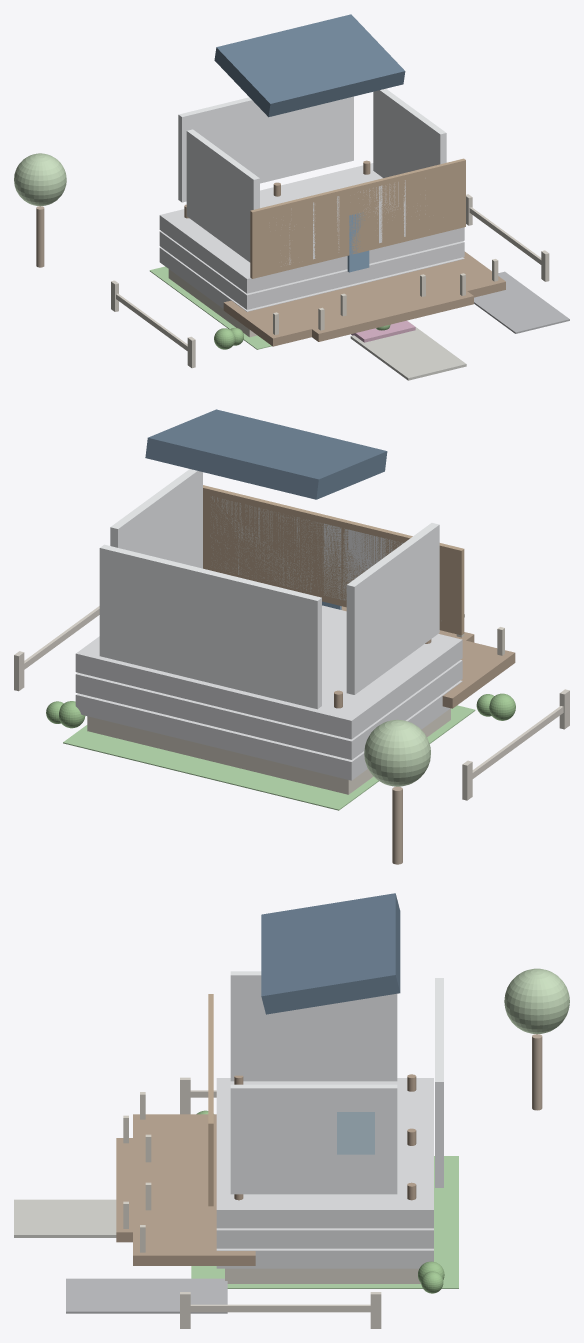
File: BUILDING_HOUSE_BEACH_BUNGALOW_001_LOD_GAMEPLAY.glb
The picture shows the model from 3 angles, top to bottom: view 1: azimuth 30°, elevation 25°; view 2: azimuth 150°, elevation 25°; view 3: azimuth 270°, elevation 25°; orthographic projection. The views are drawn at different scales.
Parts seen in each view (by area): view 1: MOD_ROOF_GABLE_STANDARD_001.001, MOD_WALL_WEATHERBOARD_WHITE_001.005, MOD_WINDOW_RESIDENTIAL_LARGE_001_COASTAL_PANORAMIC_WINDOW_GA, MOD_DECK_TIMBER_COASTAL_001_WRAP_DECK_GAMEPLAY_PLATFORM, MOD_FOUNDATION_RAISED_COASTAL_001_COASTAL_STILT_FOUNDATION_G, MOD_WINDOW_RESIDENTIAL_LARGE_001_COASTAL_PANORAMIC_WINDOW_G., MOD_WALL_WEATHERBOARD_WHITE_001.003, MOD_FOUNDATION_RAISED_COASTAL_001_MEDIUM_RAISED_COASTAL_GAME, MOD_WALL_WEATHERBOARD_WHITE_001.004, MOD_PATH_STANDARD_001_GAMEPLAY_SURFACE, MOD_DRIVEWAY_STANDARD_SINGLE_001_GAMEPLAY_SURFACE, MOD_FOUNDATION_RAISED_COASTAL_001_LOW_RAISED_COASTAL_GAMEPLA (×2) (+8 smaller); view 2: MOD_WALL_WEATHERBOARD_WHITE_001.005, MOD_FOUNDATION_RAISED_COASTAL_001_COASTAL_STILT_FOUNDATION_G, MOD_ROOF_GABLE_STANDARD_001.001, MOD_WINDOW_RESIDENTIAL_LARGE_001_COASTAL_PANORAMIC_WINDOW_G., MOD_FOUNDATION_RAISED_COASTAL_001_LOW_RAISED_COASTAL_GAMEPLA (×2), MOD_WALL_WEATHERBOARD_WHITE_001.003, MOD_FOUNDATION_RAISED_COASTAL_001_MEDIUM_RAISED_COASTAL_GAME, MOD_GROUND_GRASS_STANDARD_001_GAMEPLAY_PATCH, MOD_WALL_WEATHERBOARD_WHITE_001.004, MOD_WINDOW_RESIDENTIAL_LARGE_001_COASTAL_PANORAMIC_WINDOW_GA, MOD_TREE_EUCALYPTUS_STANDARD_001_GAMEPLAY_CANOPY, MOD_WINDOW_RESIDENTIAL_LARGE_001_DOUBLE_PANEL_WINDOW_GAMEPLA (+7 smaller); view 3: MOD_WALL_WEATHERBOARD_WHITE_001.004, MOD_WALL_WEATHERBOARD_WHITE_001.003, MOD_ROOF_GABLE_STANDARD_001.001, MOD_FOUNDATION_RAISED_COASTAL_001_COASTAL_STILT_FOUNDATION_G, MOD_DECK_TIMBER_COASTAL_001_WRAP_DECK_GAMEPLAY_PLATFORM, MOD_FOUNDATION_RAISED_COASTAL_001_LOW_RAISED_COASTAL_GAMEPLA (×2), MOD_DECK_TIMBER_COASTAL_001_MEDIUM_DECK_GAMEPLAY_PLATFORM, MOD_DRIVEWAY_STANDARD_SINGLE_001_GAMEPLAY_SURFACE, MOD_FOUNDATION_RAISED_COASTAL_001_MEDIUM_RAISED_COASTAL_GAME, MOD_GROUND_GRASS_STANDARD_001_GAMEPLAY_PATCH, MOD_PATH_STANDARD_001_GAMEPLAY_SURFACE, MOD_TREE_EUCALYPTUS_STANDARD_001_GAMEPLAY_CANOPY (+6 smaller).
Part boxes in pixels (box(x1,y1,x2,y2)): MOD_ROOF_GABLE_STANDARD_001.001: box(214, 14, 405, 117); MOD_WALL_WEATHERBOARD_WHITE_001.005: box(178, 96, 353, 202); MOD_WINDOW_RESIDENTIAL_LARGE_001_COASTAL_PANORAMIC_WINDOW_GA: box(250, 180, 376, 278); MOD_DECK_TIMBER_COASTAL_001_WRAP_DECK_GAMEPLAY_PLATFORM: box(223, 251, 505, 346); MOD_FOUNDATION_RAISED_COASTAL_001_COASTAL_STILT_FOUNDATION_G: box(159, 163, 464, 293); MOD_WINDOW_RESIDENTIAL_LARGE_001_COASTAL_PANORAMIC_WINDOW_G.: box(342, 158, 465, 249); MOD_WALL_WEATHERBOARD_WHITE_001.003: box(186, 129, 259, 262); MOD_FOUNDATION_RAISED_COASTAL_001_MEDIUM_RAISED_COASTAL_GAME: box(159, 231, 464, 309); MOD_WALL_WEATHERBOARD_WHITE_001.004: box(373, 88, 446, 177); MOD_PATH_STANDARD_001_GAMEPLAY_SURFACE: box(350, 324, 466, 380); MOD_DRIVEWAY_STANDARD_SINGLE_001_GAMEPLAY_SURFACE: box(474, 271, 569, 333); MOD_FOUNDATION_RAISED_COASTAL_001_LOW_RAISED_COASTAL_GAMEPLA (×2): box(159, 247, 464, 337); MOD_WALL_WEATHERBOARD_WHITE_001.005: box(99, 544, 321, 709); MOD_FOUNDATION_RAISED_COASTAL_001_COASTAL_STILT_FOUNDATION_G: box(75, 605, 462, 739); MOD_ROOF_GABLE_STANDARD_001.001: box(145, 409, 387, 499); MOD_WINDOW_RESIDENTIAL_LARGE_001_COASTAL_PANORAMIC_WINDOW_G.: box(203, 485, 350, 607); MOD_FOUNDATION_RAISED_COASTAL_001_LOW_RAISED_COASTAL_GAMEPLA (×2): box(75, 680, 462, 794); MOD_WALL_WEATHERBOARD_WHITE_001.003: box(346, 523, 439, 694); MOD_FOUNDATION_RAISED_COASTAL_001_MEDIUM_RAISED_COASTAL_GAME: box(75, 660, 462, 759); MOD_GROUND_GRASS_STANDARD_001_GAMEPLAY_PATCH: box(63, 705, 475, 810); MOD_WALL_WEATHERBOARD_WHITE_001.004: box(110, 469, 202, 568); MOD_WINDOW_RESIDENTIAL_LARGE_001_COASTAL_PANORAMIC_WINDOW_GA: box(304, 511, 464, 635); MOD_TREE_EUCALYPTUS_STANDARD_001_GAMEPLAY_CANOPY: box(364, 719, 430, 786); MOD_WINDOW_RESIDENTIAL_LARGE_001_DOUBLE_PANEL_WINDOW_GAMEPLA: box(323, 523, 441, 620); MOD_WALL_WEATHERBOARD_WHITE_001.004: box(230, 1084, 397, 1194); MOD_WALL_WEATHERBOARD_WHITE_001.003: box(230, 971, 397, 1081); MOD_ROOF_GABLE_STANDARD_001.001: box(261, 893, 400, 1014); MOD_FOUNDATION_RAISED_COASTAL_001_COASTAL_STILT_FOUNDATION_G: box(216, 1078, 433, 1228); MOD_DECK_TIMBER_COASTAL_001_WRAP_DECK_GAMEPLAY_PLATFORM: box(133, 1114, 255, 1265); MOD_FOUNDATION_RAISED_COASTAL_001_LOW_RAISED_COASTAL_GAMEPLA (×2): box(216, 1248, 433, 1283); MOD_DECK_TIMBER_COASTAL_001_MEDIUM_DECK_GAMEPLAY_PLATFORM: box(116, 1138, 216, 1242); MOD_DRIVEWAY_STANDARD_SINGLE_001_GAMEPLAY_SURFACE: box(66, 1278, 227, 1313); MOD_FOUNDATION_RAISED_COASTAL_001_MEDIUM_RAISED_COASTAL_GAME: box(216, 1228, 433, 1248); MOD_GROUND_GRASS_STANDARD_001_GAMEPLAY_PATCH: box(191, 1156, 458, 1288); MOD_PATH_STANDARD_001_GAMEPLAY_SURFACE: box(14, 1199, 116, 1237); MOD_TREE_EUCALYPTUS_STANDARD_001_GAMEPLAY_CANOPY: box(504, 968, 569, 1034).
Size of the model in its own units: 9.99 by 5.72 by 9.97.
